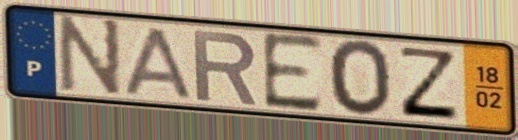A: (122, 24, 196, 102)
E: (259, 29, 325, 116)
N: (57, 13, 124, 101)
O: (326, 37, 395, 120)
R: (190, 27, 261, 107)
Z: (398, 44, 462, 123)
